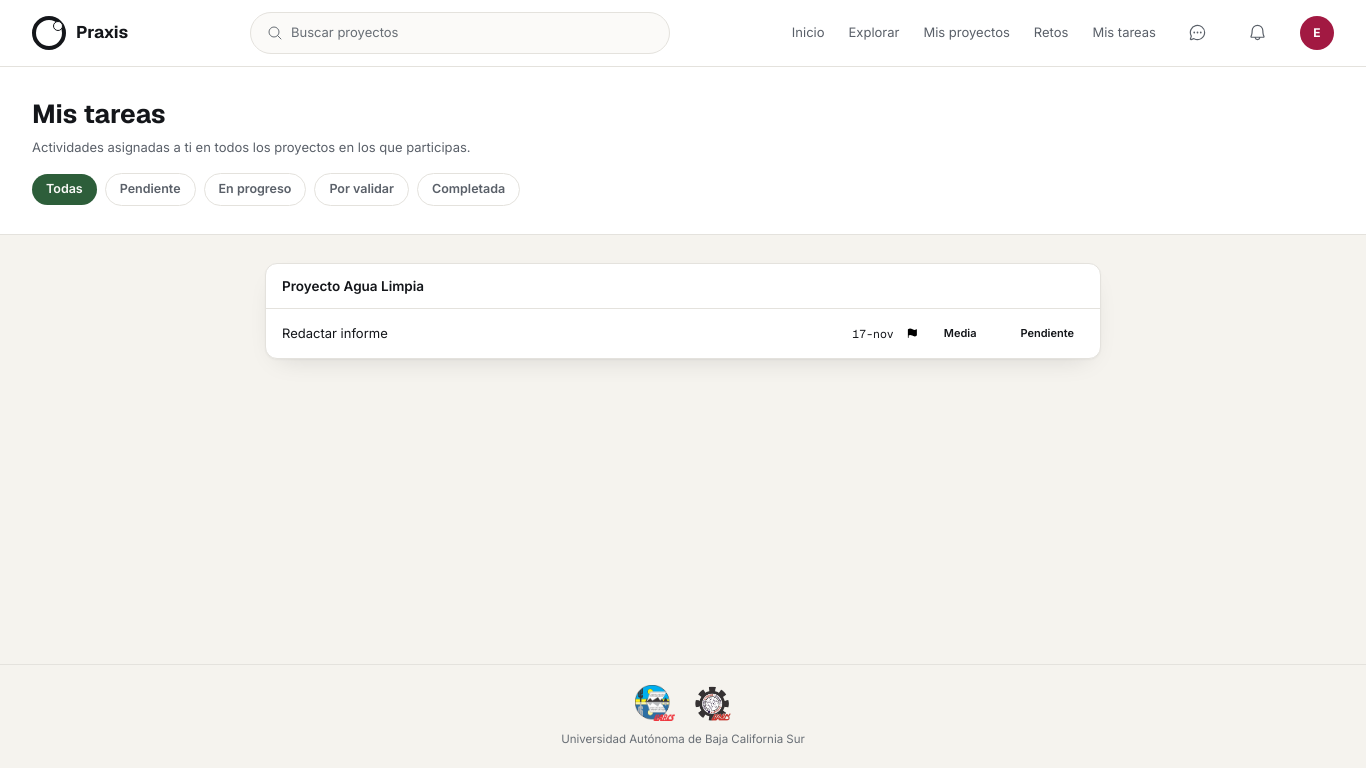
Test: MisTareas — status filter › re-queries with the selected status filter and shows the filtered empty state
The image size is (1366, 768).
expect the text "Redactar informe" is shown: met, box [282,324,388,340]
Click the button "Completada" at (469, 189), box [417,173,520,206]
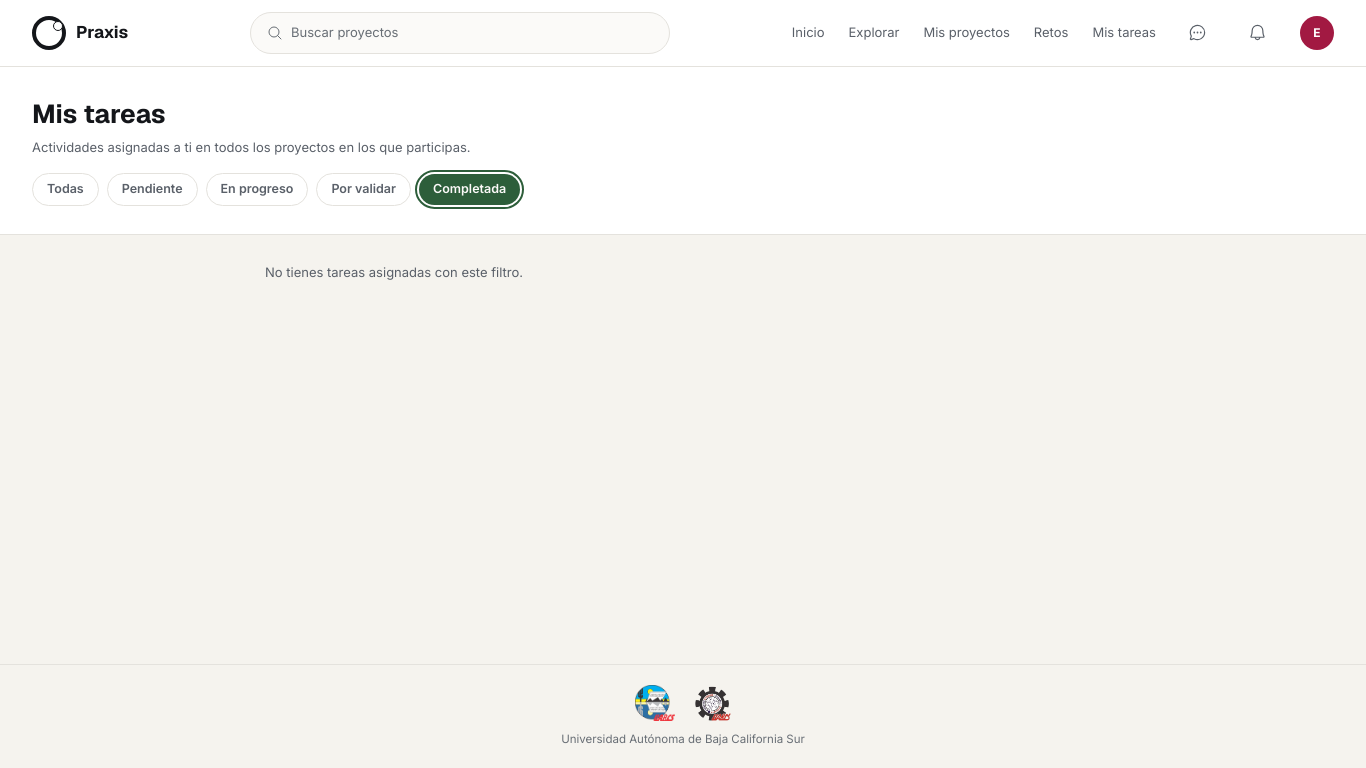
expect the text "No tienes tareas asignadas con este filtro." is shown: met, box [265,264,523,280]
